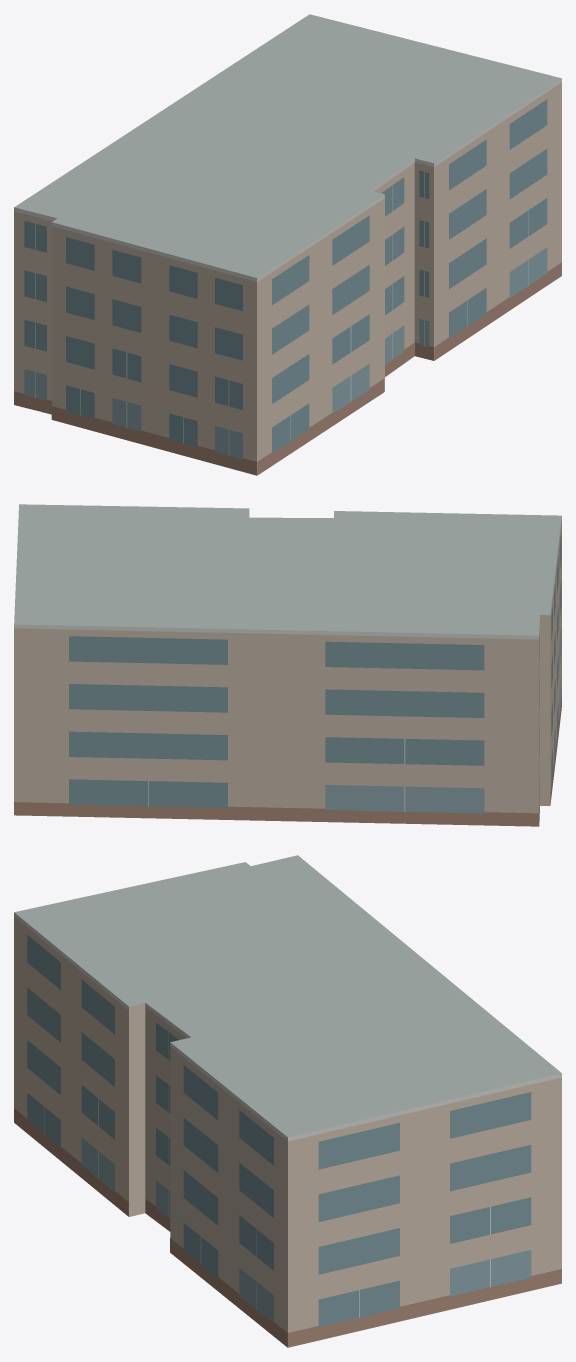
Rendered from survey-upis-32863830.glb.
3 views of the same model, one above another, from view 1: azimuth 30°, elevation 25°; view 2: azimuth 150°, elevation 25°; view 3: azimuth 270°, elevation 25° (orthographic). The views are drawn at different scales.
Visible parts, largest first — view 1: survey-upis-32863830.tmp; view 2: survey-upis-32863830.tmp; view 3: survey-upis-32863830.tmp.
Part boxes in pixels (box(x1,y1,x2,y2)): survey-upis-32863830.tmp: box(14, 14, 561, 475); survey-upis-32863830.tmp: box(14, 504, 561, 826); survey-upis-32863830.tmp: box(14, 855, 561, 1347).
Size of the model in its own units: 35.1 by 12.2 by 28.8.
